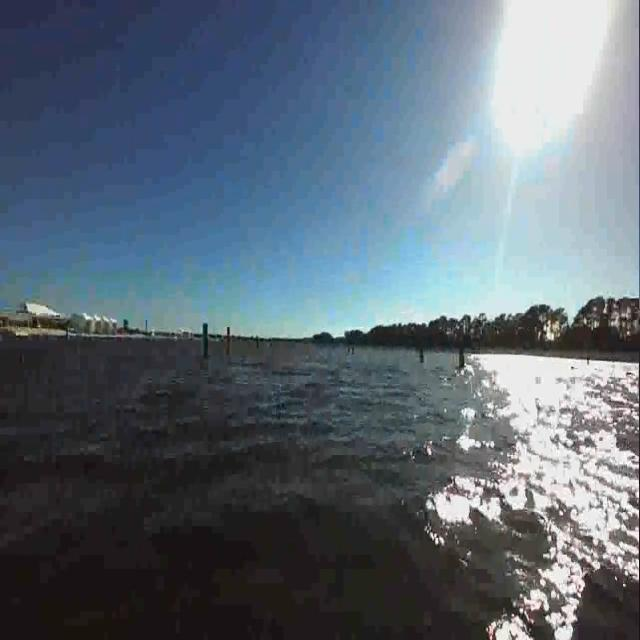green-column-buoy: (200, 323, 212, 359)
red-column-buoy: (223, 327, 232, 358)
